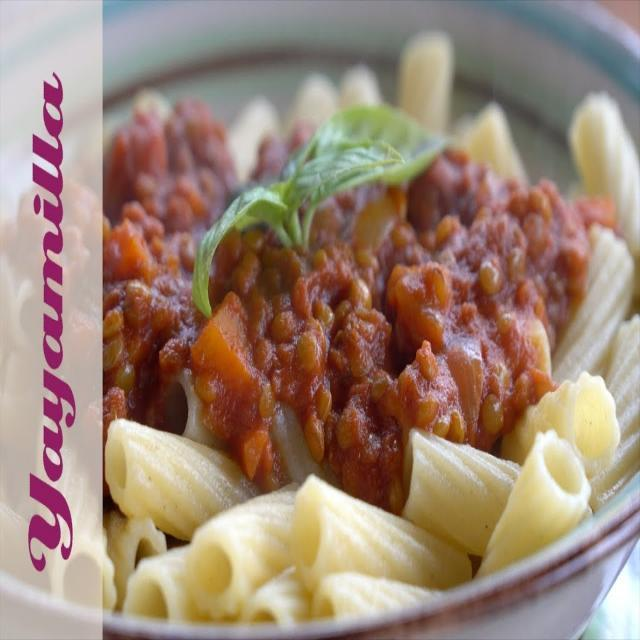Pasta al ragu: (109, 71, 631, 630)
